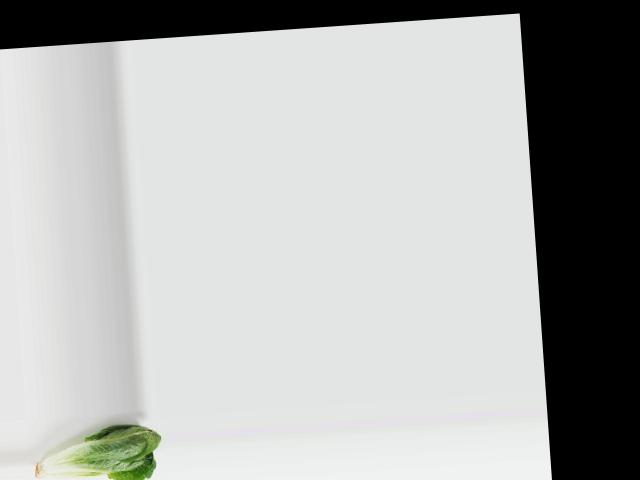lettuce: (25, 418, 164, 480)
